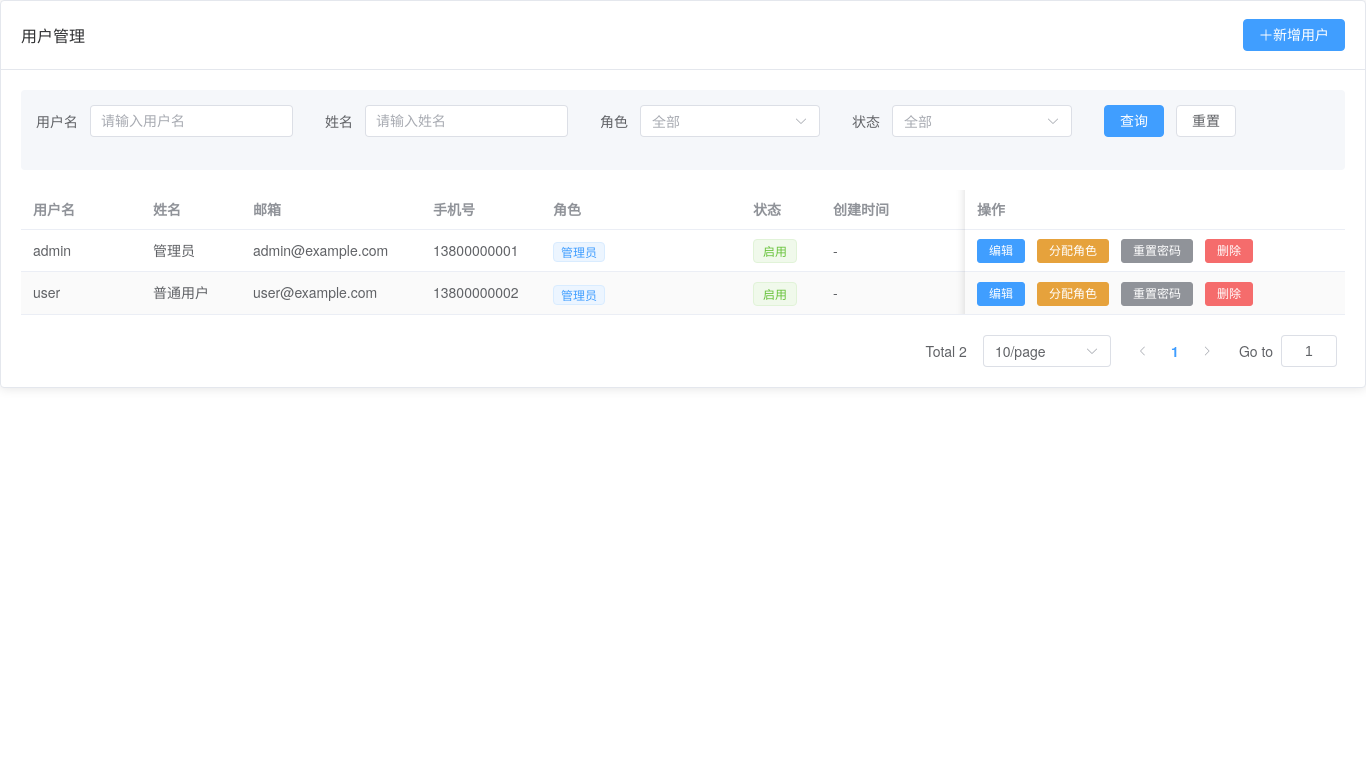
Test: UserManagement.vue › EditDialog_NoPasswordField：编辑弹窗无密码框，用户名回填且禁用
The width and height of the screenshot is (1366, 768).
Click the button "编辑" in the row of "admin@example.com": (1001, 251) [977, 239, 1025, 263]
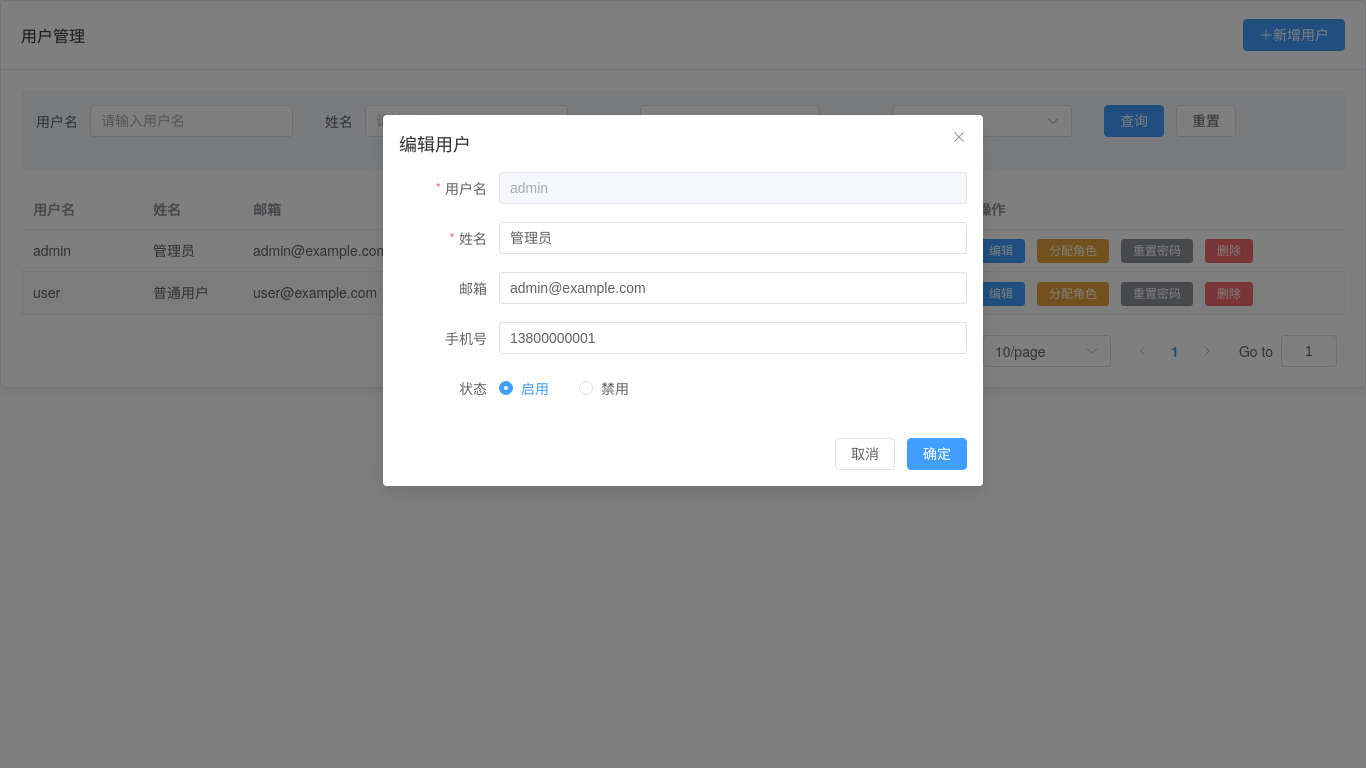
Expected: the heading "编辑用户" is shown, [399, 130, 471, 156]
Expected: the field with id "username" holds "admin", [510, 173, 956, 203]
Expected: the field with id "username" is disabled, [510, 173, 956, 203]
